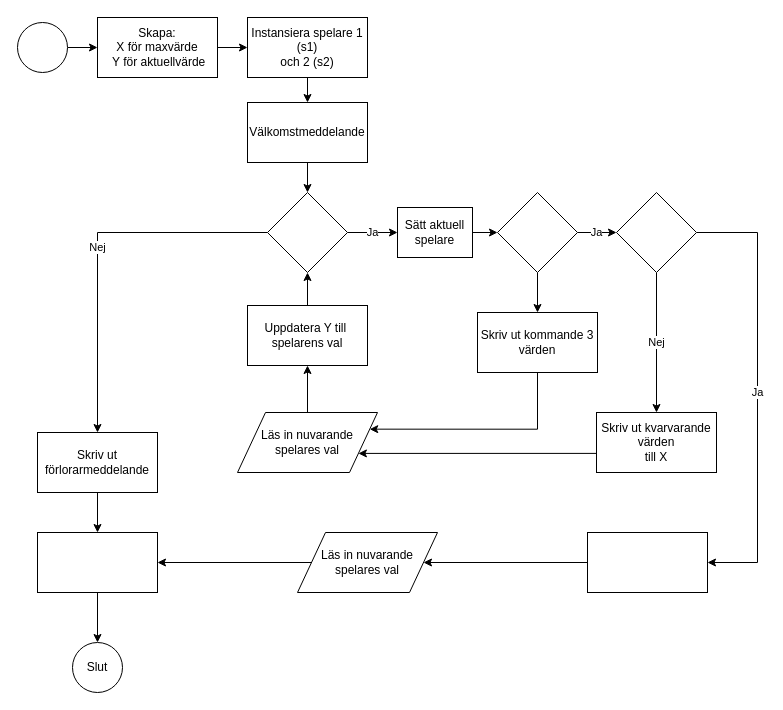
Image size: 783x710. Some labels were removed from this diagram. The shapes that lost their labels are listed below. From the top down, each one's centre as x and y in pixels, then its label:
point 42,47: Start
point 307,232: Är Y != X
point 537,232: Y > X -3
point 656,232: Y = X -1
point 97,562: Skriv ut vinnarmeddelande
point 647,562: Skriv ut specialt förlorarmeddelande
